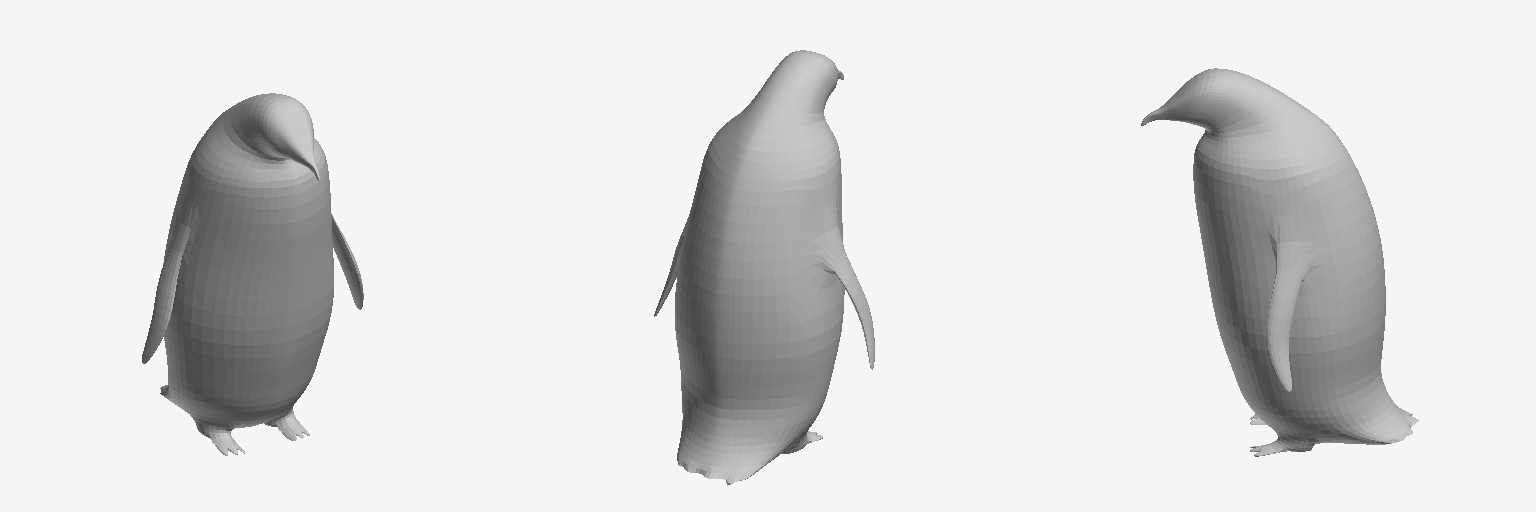
The model's file is penguin.obj.
3 views of the same model, side by side, from view 1: azimuth 30°, elevation 25°; view 2: azimuth 150°, elevation 25°; view 3: azimuth 270°, elevation 25° (orthographic).
Parts seen in each view (by area): view 1: Penguin; view 2: Penguin; view 3: Penguin.
Boxes of the visible parts, x1=… form: Penguin: x1=142, y1=93, x2=363, y2=455; Penguin: x1=654, y1=50, x2=874, y2=484; Penguin: x1=1141, y1=68, x2=1418, y2=456.
Size of the model in its own units: 0.749 by 1.19 by 0.826.